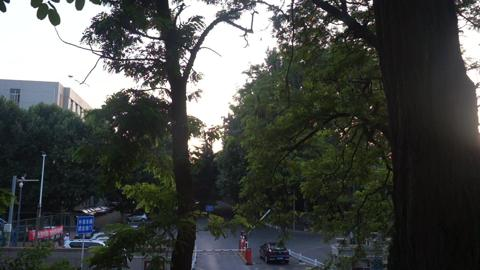UAV: (68, 74, 74, 79)
